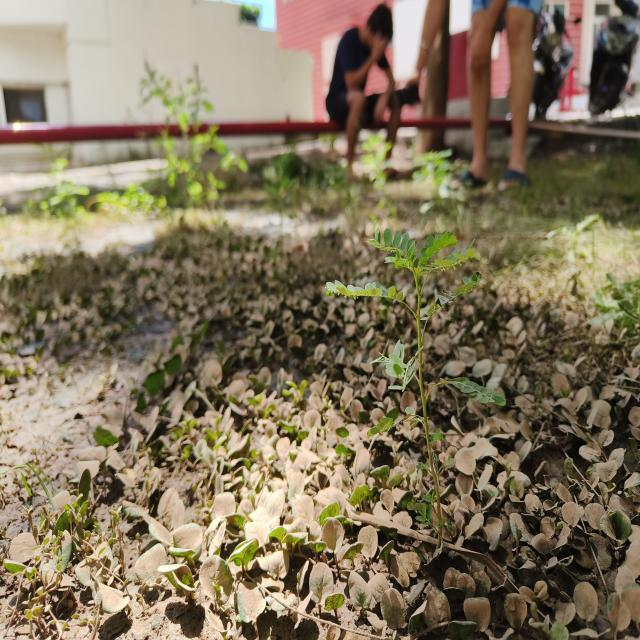weed: (320, 228, 512, 541)
